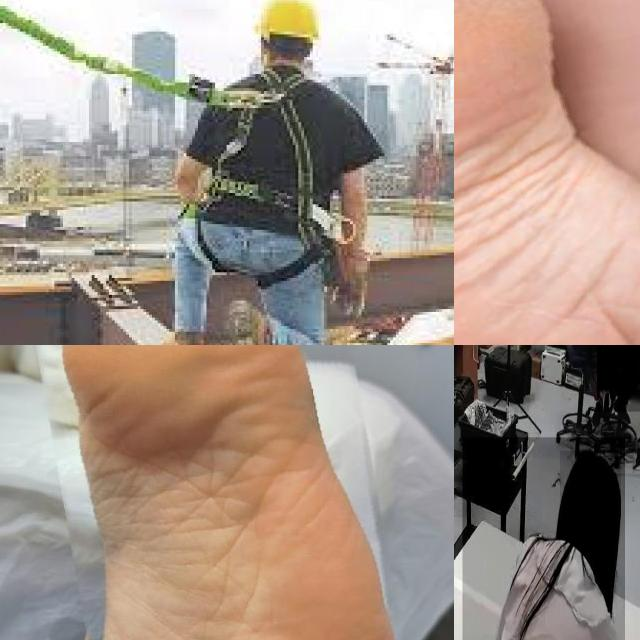Barefoots: (63, 345, 397, 640), (454, 0, 640, 345)
Harness: (186, 59, 344, 290)
head_nohelmet: (560, 451, 622, 520)
person: (462, 437, 625, 640), (597, 345, 640, 412)
